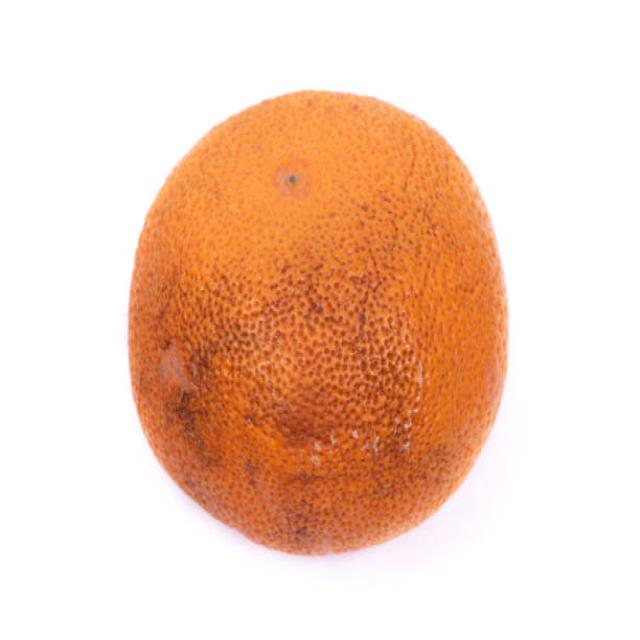overripe: (119, 84, 512, 561)
